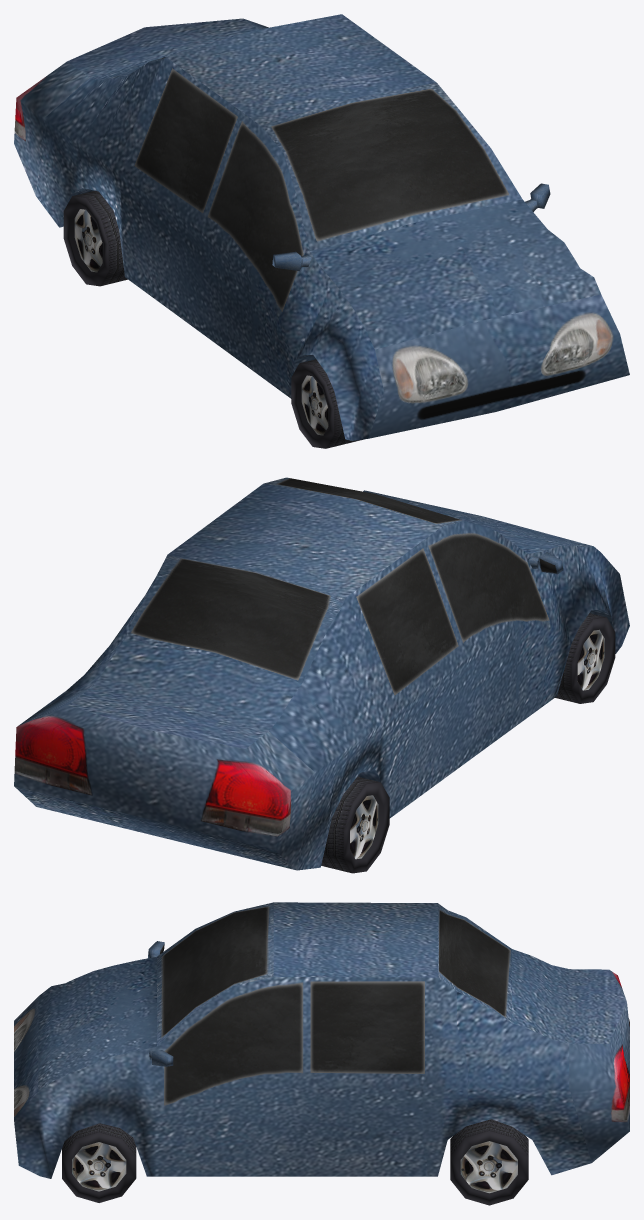
Rendered from CarModel.fbx.
3 renders of one model, top to bottom at view 1: azimuth 30°, elevation 25°; view 2: azimuth 150°, elevation 25°; view 3: azimuth 270°, elevation 25°, orthographic. The views are drawn at different scales.
Visible parts, largest first — view 1: Car1; view 2: Car1; view 3: Car1.
Part boxes in pixels (x1,y1,x2,y2): Car1: (14, 14, 629, 448); Car1: (14, 477, 629, 873); Car1: (14, 902, 629, 1205).
Bounding box in the file's own units: 7.4 × 6.04 × 16.07.
